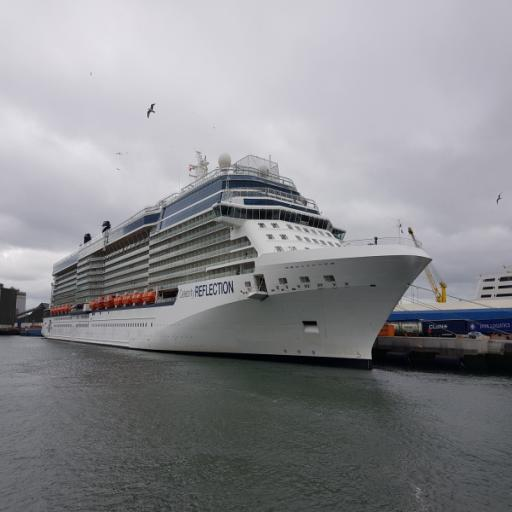cruises: (40, 146, 435, 381)
